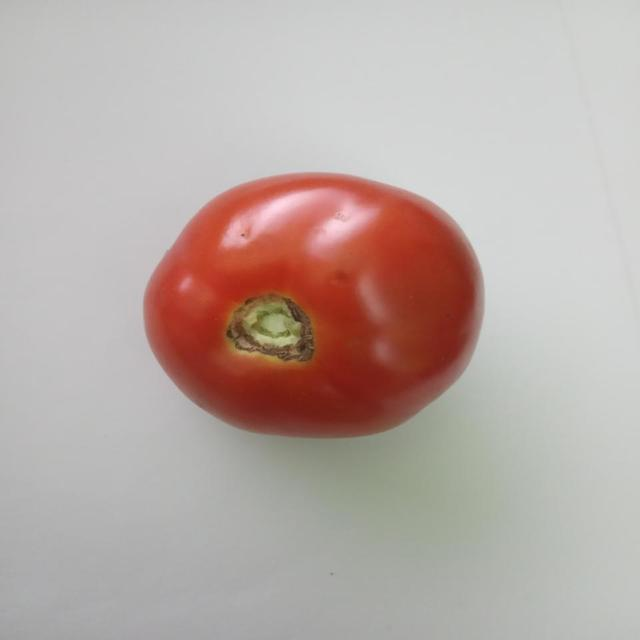Healthy Fruit: (91, 109, 328, 295)
